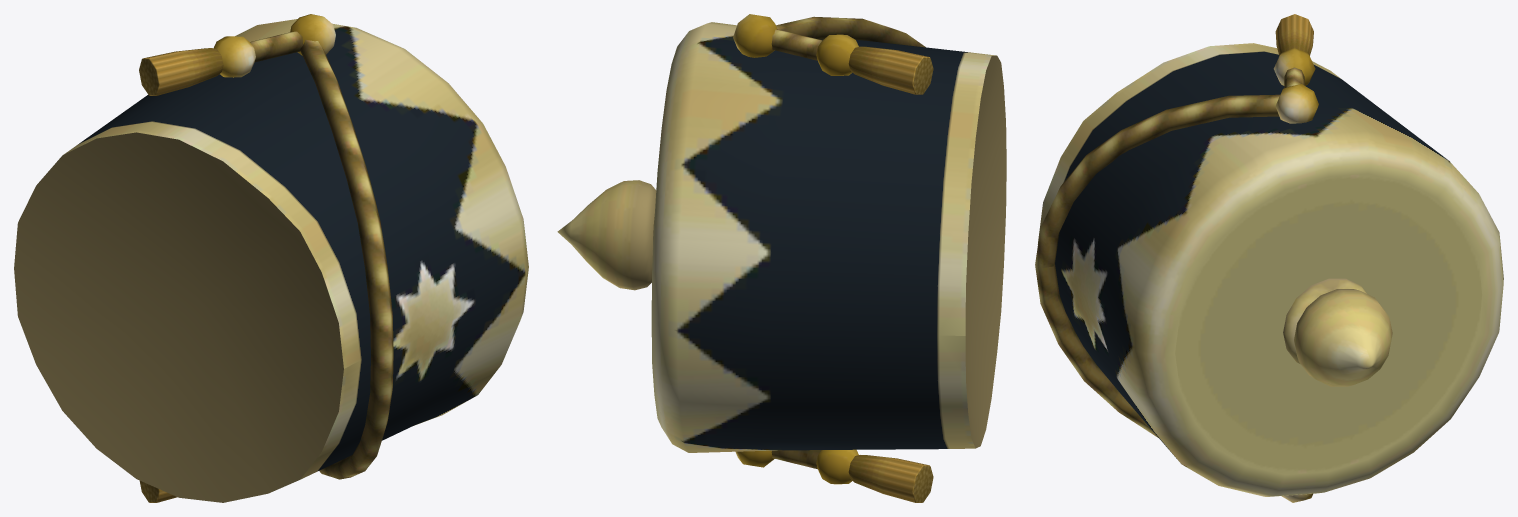
File: cap_foc31_doll_cmps.fbx
3 renders of one model, left to right at view 1: azimuth 30°, elevation 25°; view 2: azimuth 150°, elevation 25°; view 3: azimuth 270°, elevation 25°, orthographic. The views are drawn at different scales.
Parts seen in each view (by area): view 1: cap_foc31_doll_cmps_mdl; view 2: cap_foc31_doll_cmps_mdl; view 3: cap_foc31_doll_cmps_mdl.
Boxes of the visible parts, bbox=[...] form: cap_foc31_doll_cmps_mdl: bbox=[14, 14, 528, 502]; cap_foc31_doll_cmps_mdl: bbox=[557, 14, 1006, 502]; cap_foc31_doll_cmps_mdl: bbox=[1035, 14, 1503, 502].
Bounding box in the file's own units: 0.0795 × 0.083 × 0.0848.
Materials: 1 (1 with a texture image).
